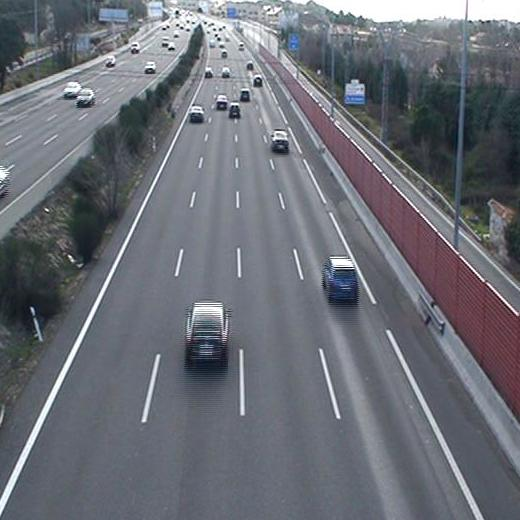car: (186, 302, 229, 366), (323, 256, 360, 302), (271, 129, 289, 153), (189, 105, 205, 121), (229, 102, 239, 118), (215, 95, 226, 108), (252, 75, 263, 87), (239, 89, 250, 100), (221, 66, 229, 77), (204, 67, 213, 76)
